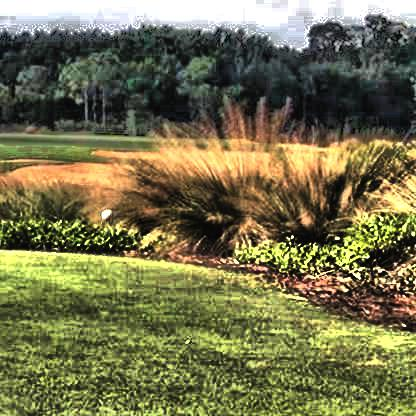golfball: (98, 207, 109, 220)
